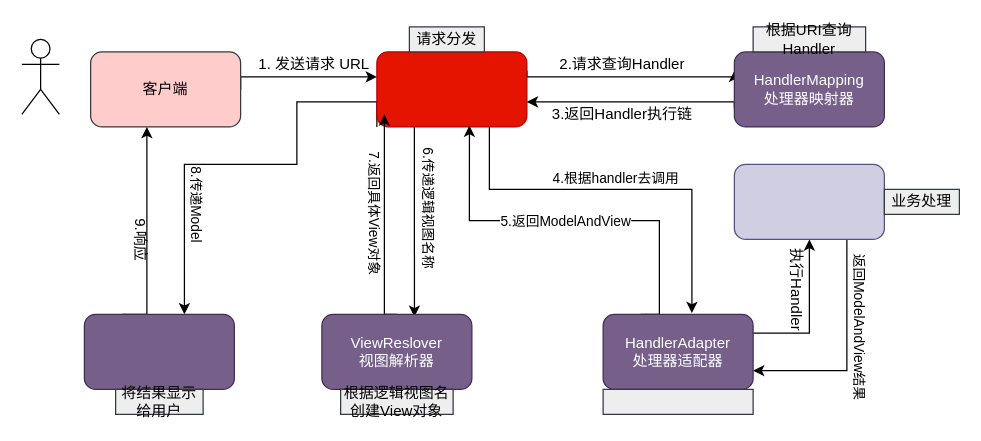
This 981x441 diagram has some shape labels left out. Each missing label, with the centre of its shape:
"Actor" belongs at (40,76).
"DispatcherServlet 前端核心控制器" belongs at (451,89).
"Handler处理器" belongs at (808,201).
"View 视图" belongs at (158,351).
"根据一定接口规则去执行Handler" belongs at (677,401).
